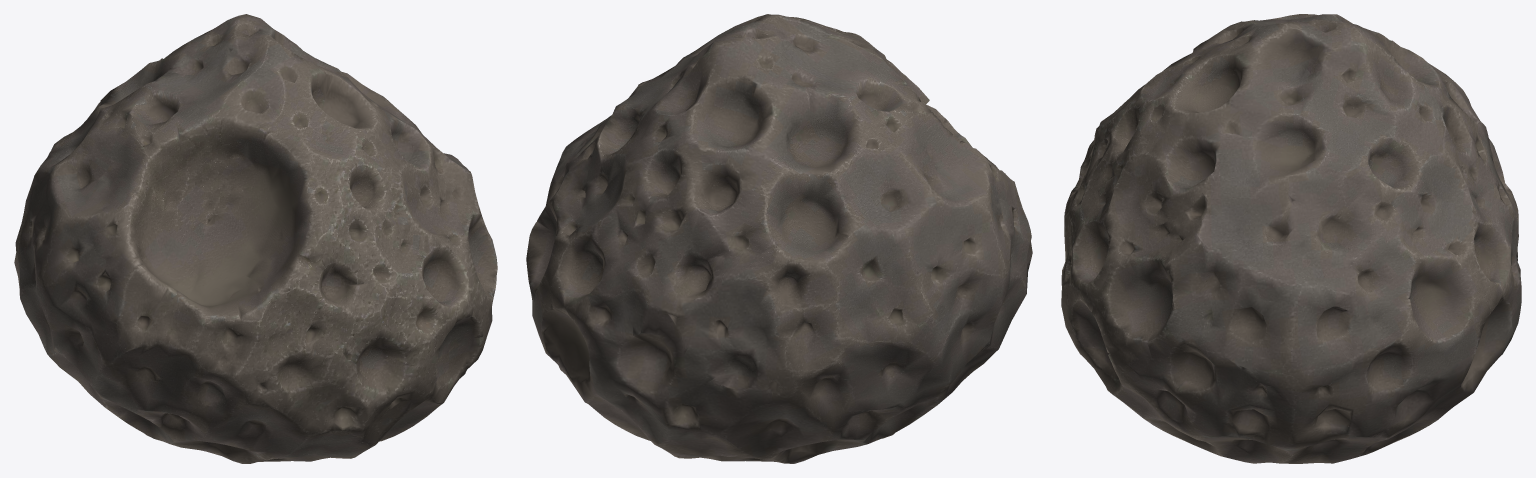
File: runtime_high_03.glb
The picture shows the model from 3 angles, left to right: view 1: azimuth 30°, elevation 25°; view 2: azimuth 150°, elevation 25°; view 3: azimuth 270°, elevation 25°; orthographic projection. The views are drawn at different scales.
Visible parts, largest first — view 1: tripo_node_41b7795b-d461-4997-83e6-1134cef098b3; view 2: tripo_node_41b7795b-d461-4997-83e6-1134cef098b3; view 3: tripo_node_41b7795b-d461-4997-83e6-1134cef098b3.
Part boxes in pixels (box(x1,y1,x2,y2)): tripo_node_41b7795b-d461-4997-83e6-1134cef098b3: box(14, 14, 497, 463); tripo_node_41b7795b-d461-4997-83e6-1134cef098b3: box(526, 14, 1032, 463); tripo_node_41b7795b-d461-4997-83e6-1134cef098b3: box(1061, 14, 1521, 463).
Size of the model in its own units: 0.9794 by 0.8767 by 0.8957.
Materials: 1 (1 with a texture image).
